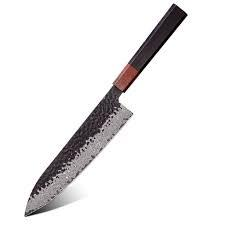Knife: (23, 2, 187, 216)
